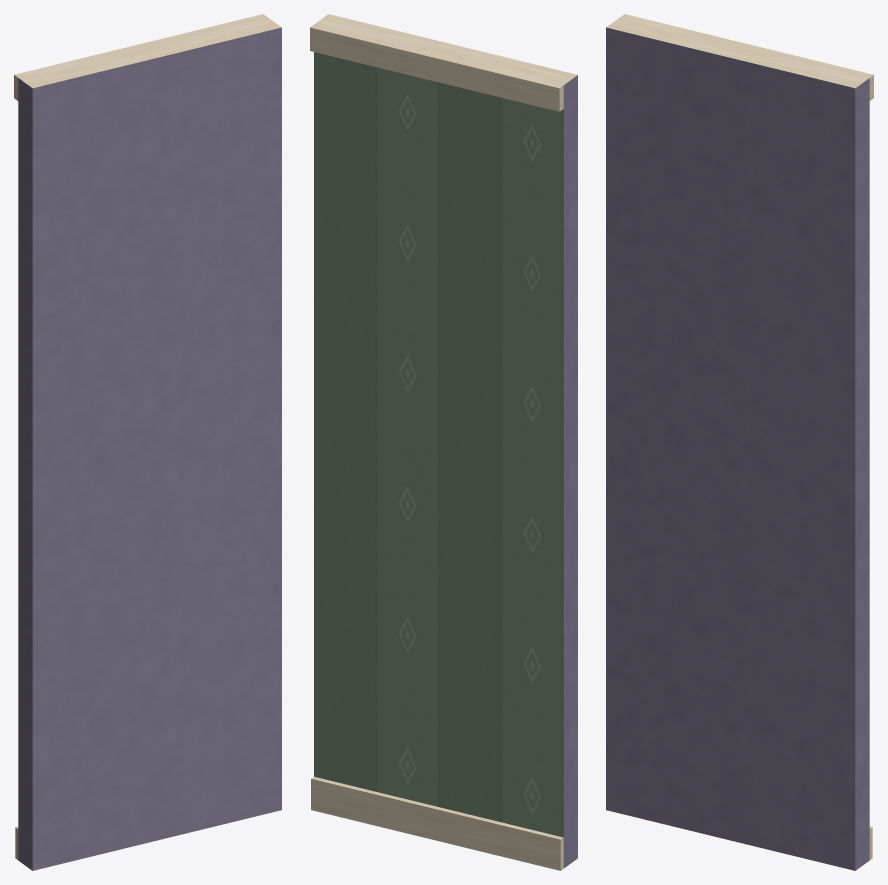
The model's file is SM_Wall_1x3.fbx.
The picture shows the model from 3 angles, left to right: view 1: azimuth 30°, elevation 25°; view 2: azimuth 150°, elevation 25°; view 3: azimuth 330°, elevation 25°; orthographic projection.
Parts seen in each view (by area): view 1: SM_Wall_1x3; view 2: SM_Wall_1x3; view 3: SM_Wall_1x3.
Boxes of the visible parts, x1,y1,x2,y2 form: SM_Wall_1x3: (14, 14, 281, 870); SM_Wall_1x3: (310, 14, 577, 870); SM_Wall_1x3: (606, 14, 873, 870).
Size of what is drawn, in the model's own units: 1 by 3 by 0.128.
3 materials, 3 textured.
